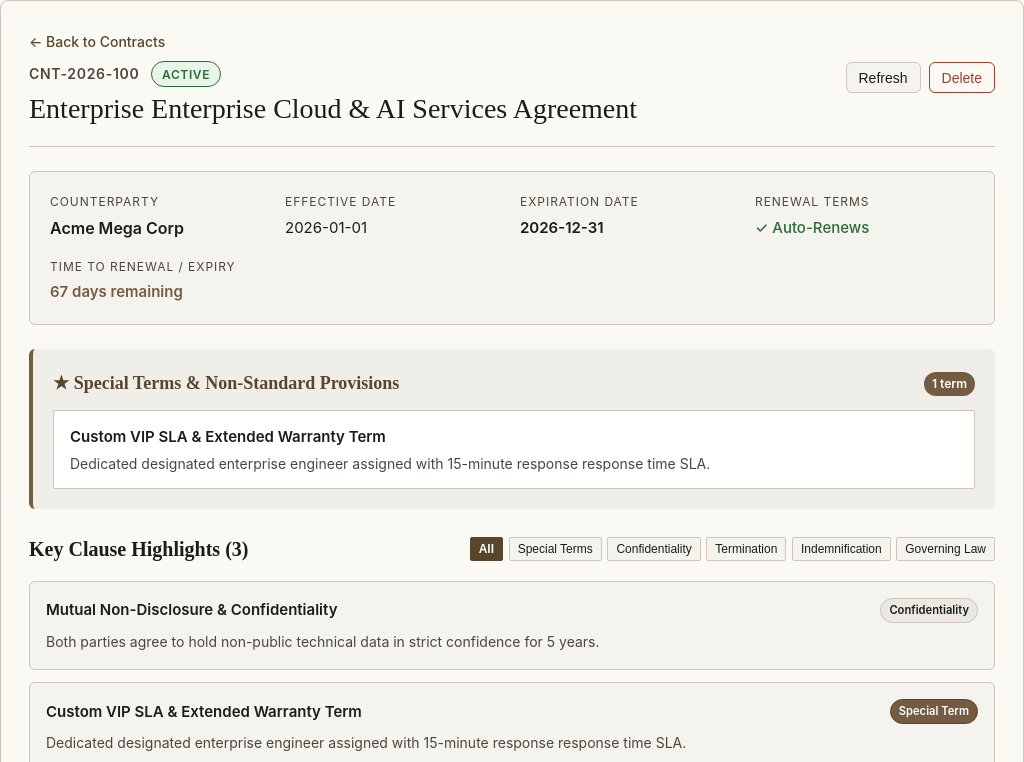
it: ContractDetail Component › renders key clause highlights and filters clauses when filter buttons are clicked
// Filter by SPECIAL_TERM
Click the button with test id "clause-filter-SPECIAL_TERM": {"x": 555, "y": 549} [509, 537, 602, 561]
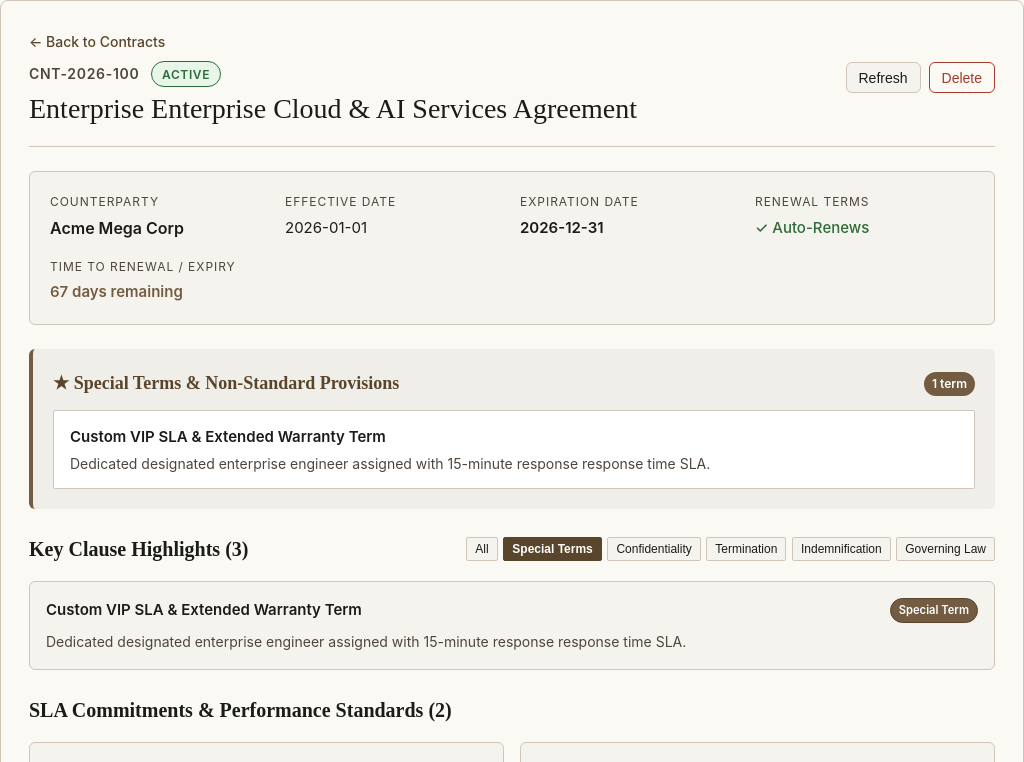
Expected: the text with test id "clause-title" reads "Custom VIP SLA & Extended Warranty Term", [46, 600, 362, 620]
Now the number of elements with test id "clause-item" is 1, box [29, 581, 995, 670]
// Filter by TERMINATION
Click the button with test id "clause-filter-TERMINATION": {"x": 746, "y": 549} [706, 537, 786, 561]
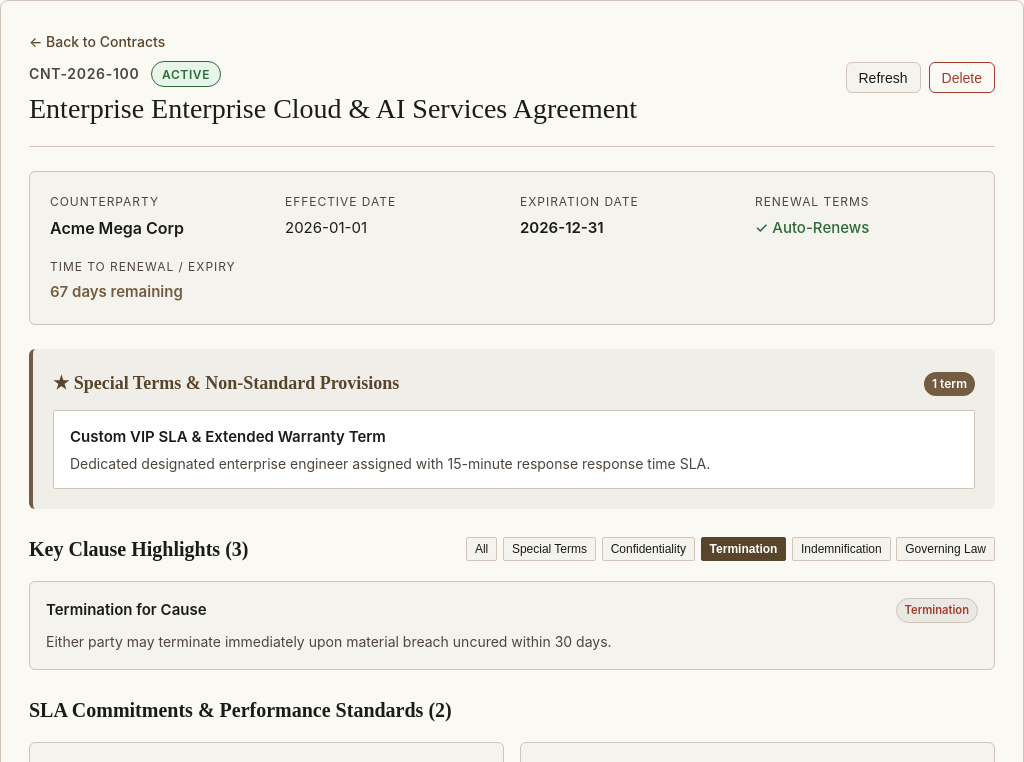
Now the number of elements with test id "clause-item" is 1, box [29, 581, 995, 670]
Now the text with test id "clause-title" reads "Termination for Cause", box [46, 600, 206, 620]
// Reset filter to ALL
Click the button with test id "clause-filter-ALL": {"x": 482, "y": 549} [466, 537, 497, 561]
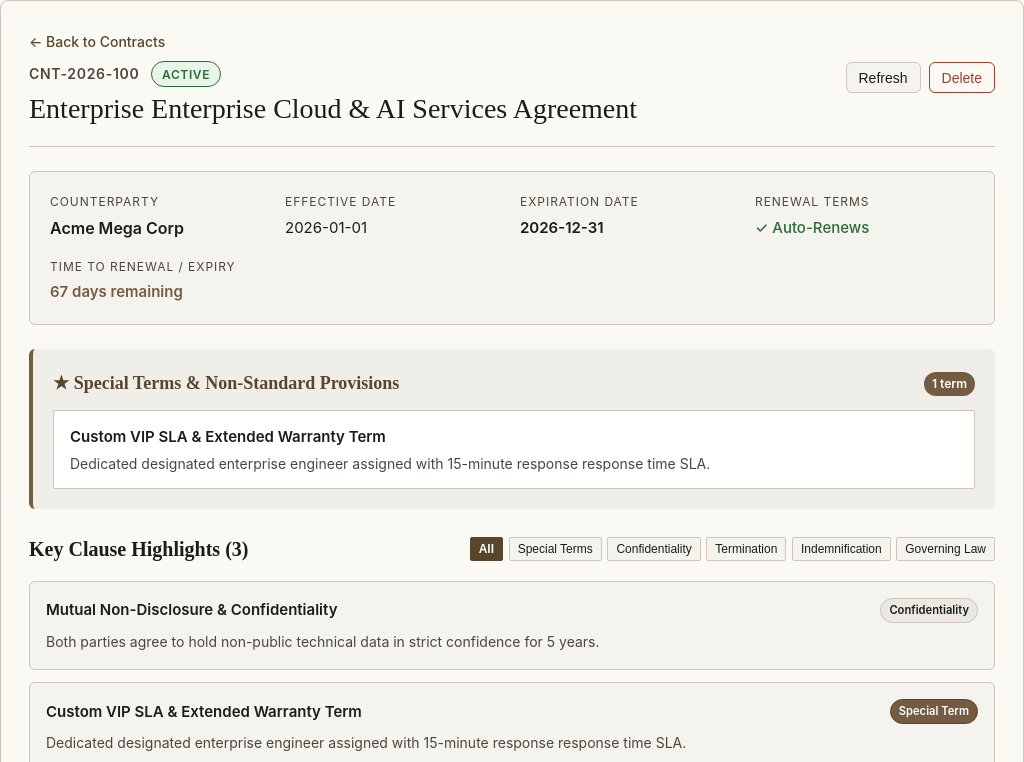
Now the number of elements with test id "clause-item" is 3
